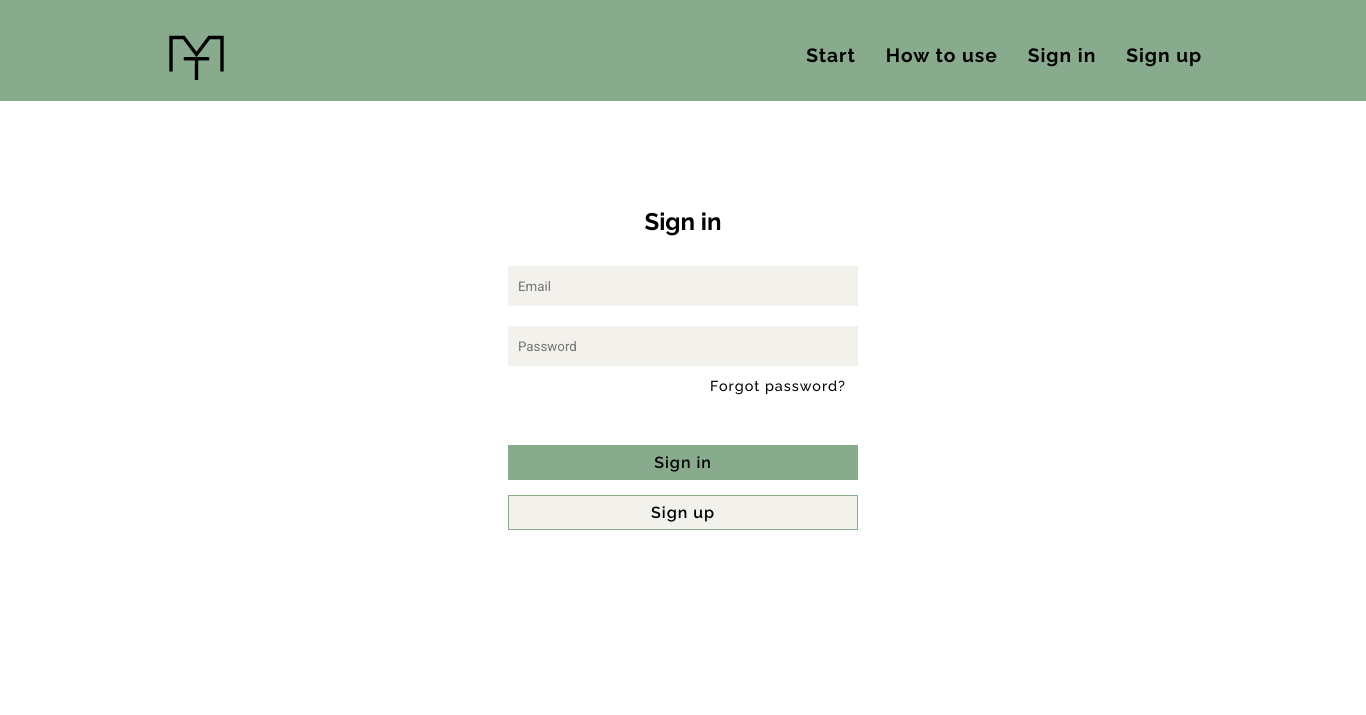
Test: Sign in › Bad request
Click the button with id "signInButton" at coordinates (683, 463), box [508, 445, 858, 480]
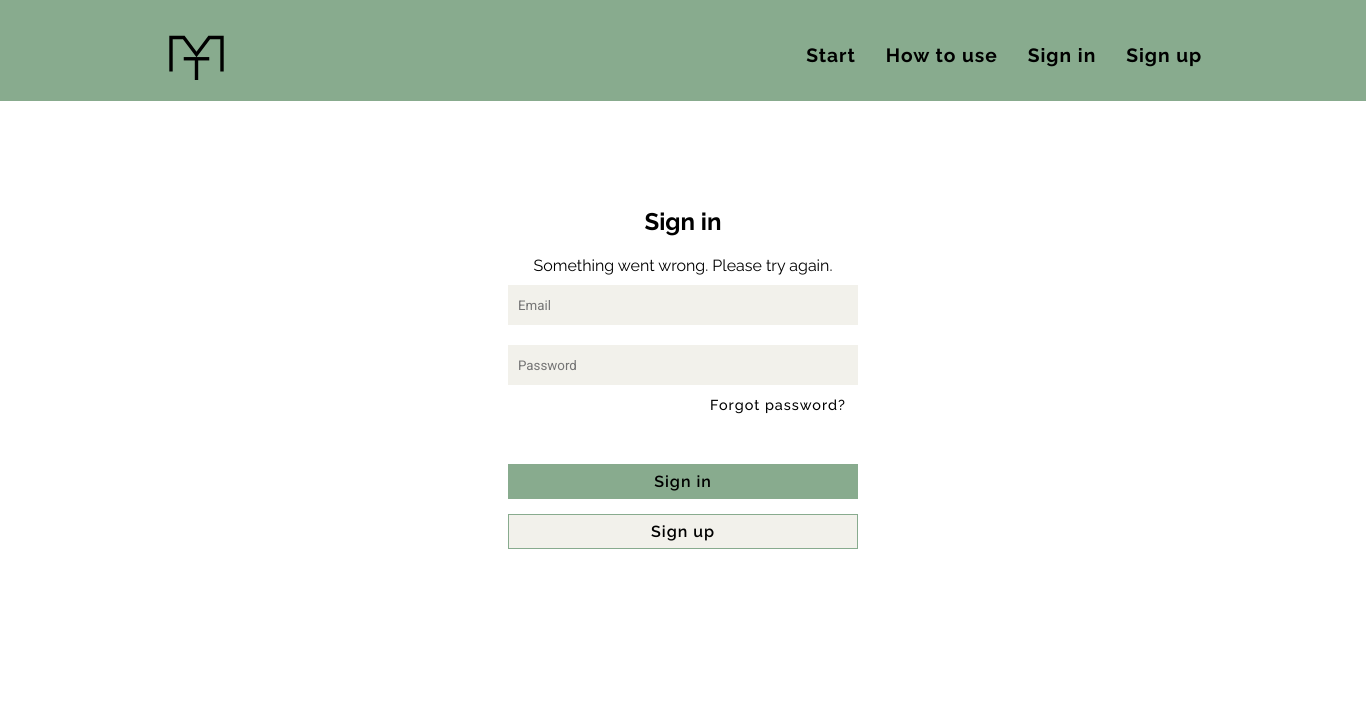
Now the text "Something went wrong. Please try again" is shown, box [534, 256, 833, 275]
